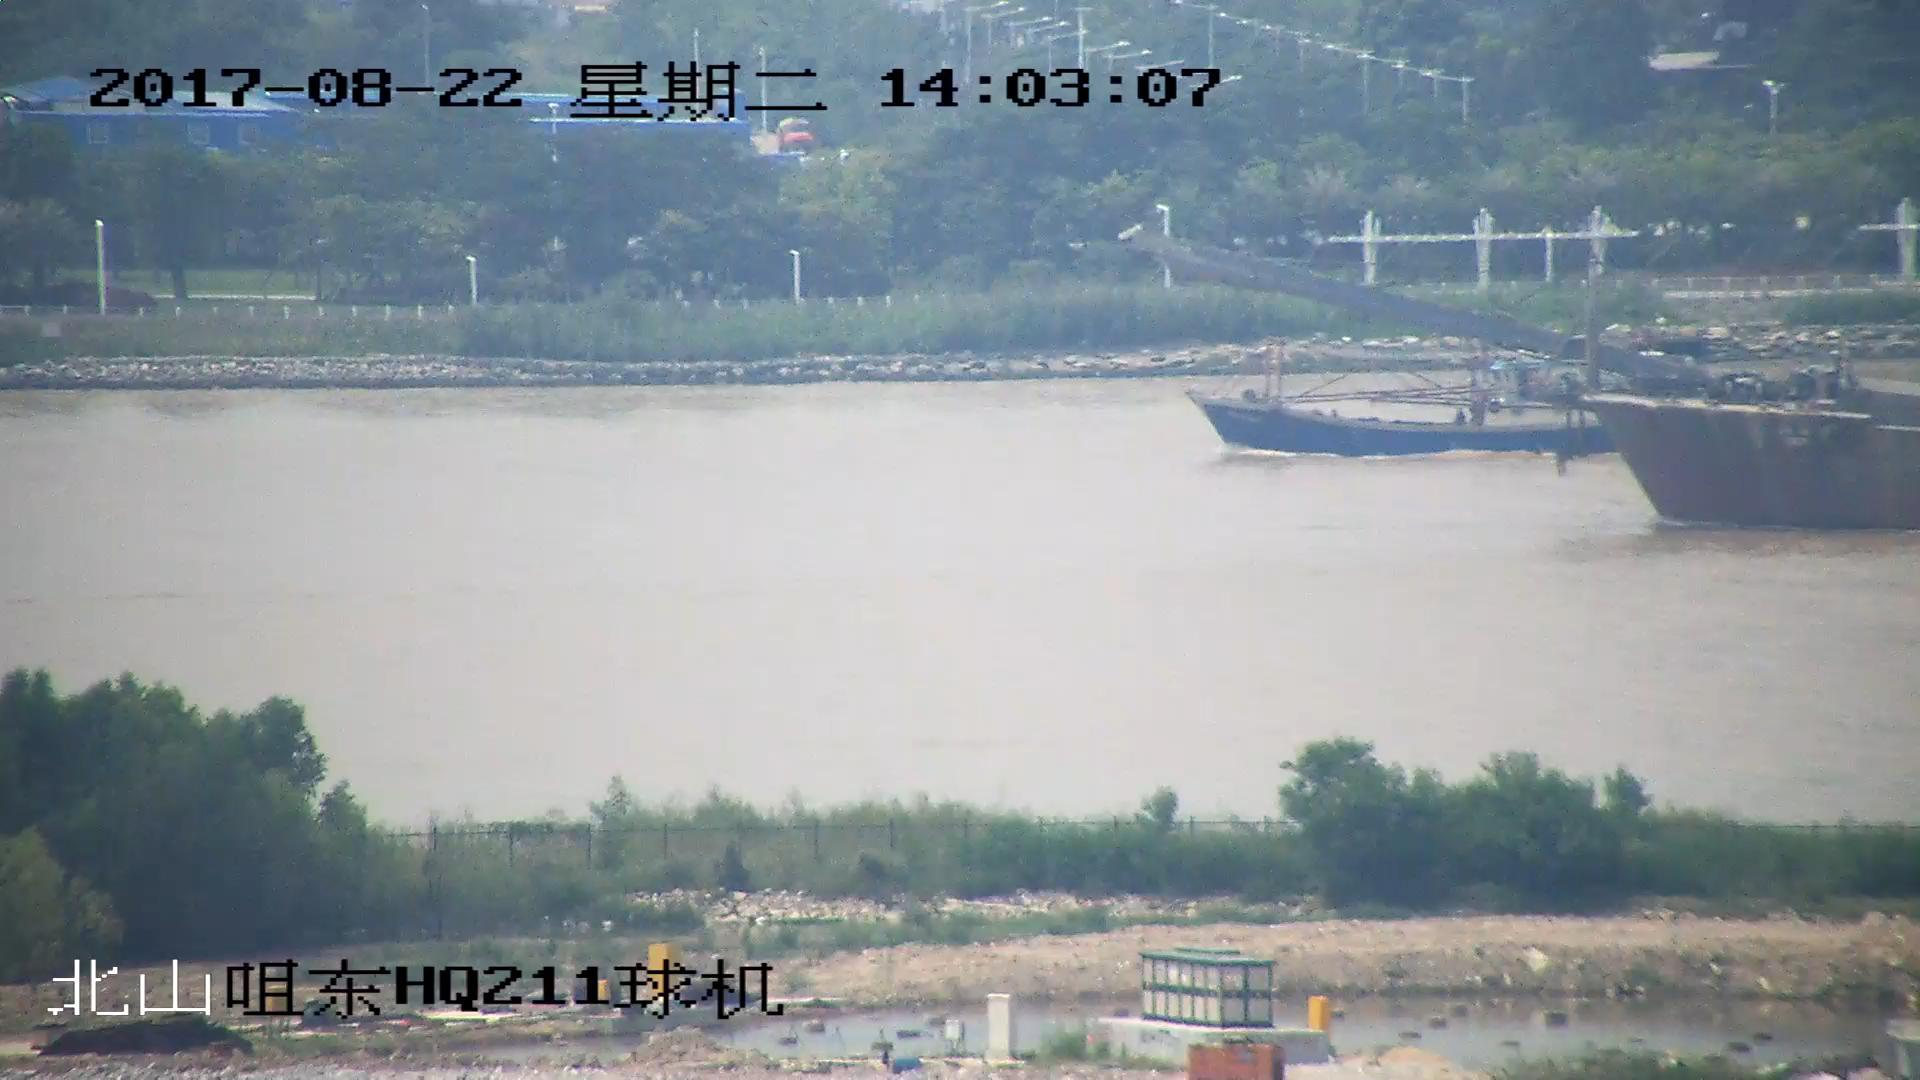Ship: (1139, 236, 1920, 530), (1189, 342, 1609, 465)
